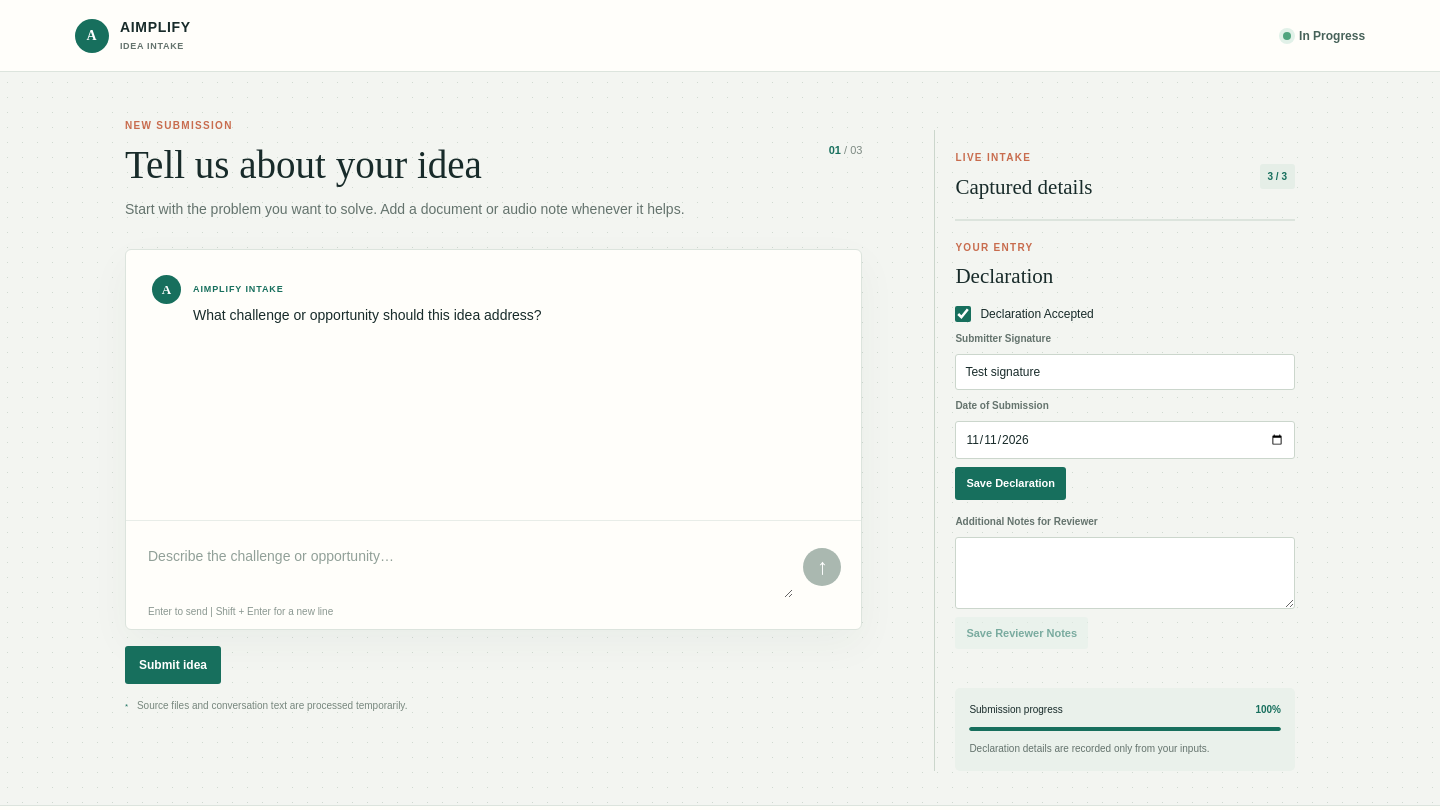
submission outcomes › keeps Submit gated until every declaration save settles after an early failure
Later steps or results of the test are not shown.
Step 1. Click the button "Save Declaration" → (1011, 484), box [955,467,1066,500]
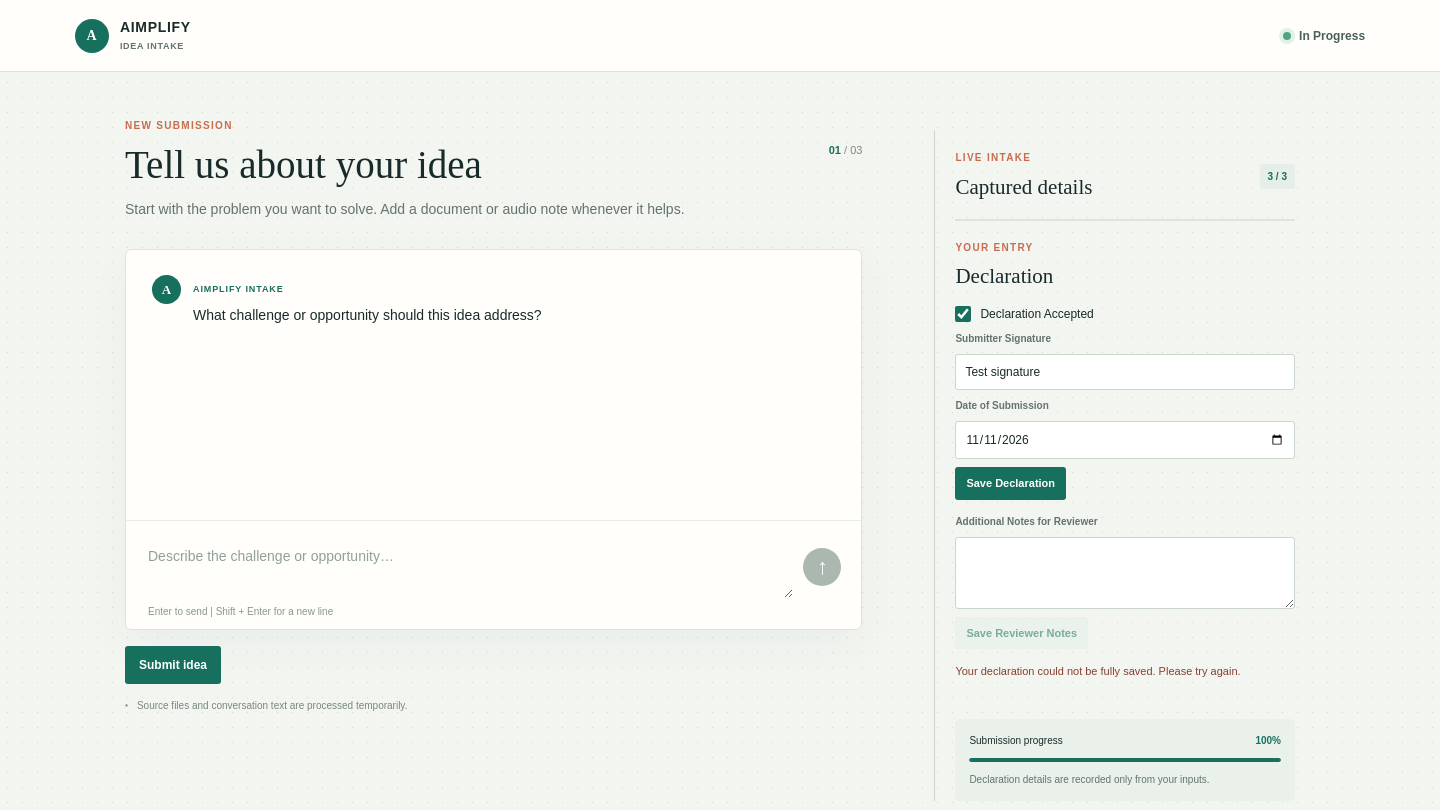
Expected: the button "Submit idea" is enabled, [125,646,221,684]
Expected: the message shows "could not be fully saved", [955,665,1241,677]
